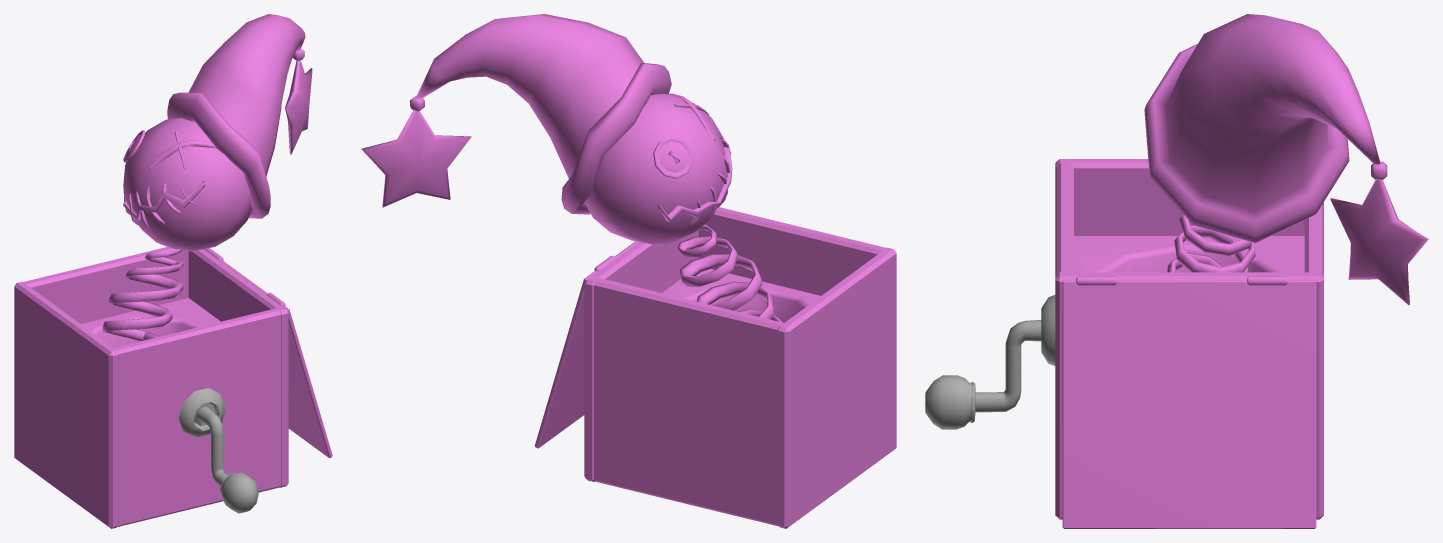
File: jack_in_the_box.fbx
The picture shows the model from 3 angles, left to right: view 1: azimuth 30°, elevation 25°; view 2: azimuth 150°, elevation 25°; view 3: azimuth 270°, elevation 25°; orthographic projection. The views are drawn at different scales.
Parts seen in each view (by area): view 1: pCylinder2; view 2: pCylinder2; view 3: pCylinder2.
Boxes of the visible parts, x1,y1,x2,y2 form: pCylinder2: (14,14,332,528); pCylinder2: (361,14,896,528); pCylinder2: (925,14,1428,528).
Bounding box in the file's own units: 0.4465 × 0.4898 × 0.4195.
